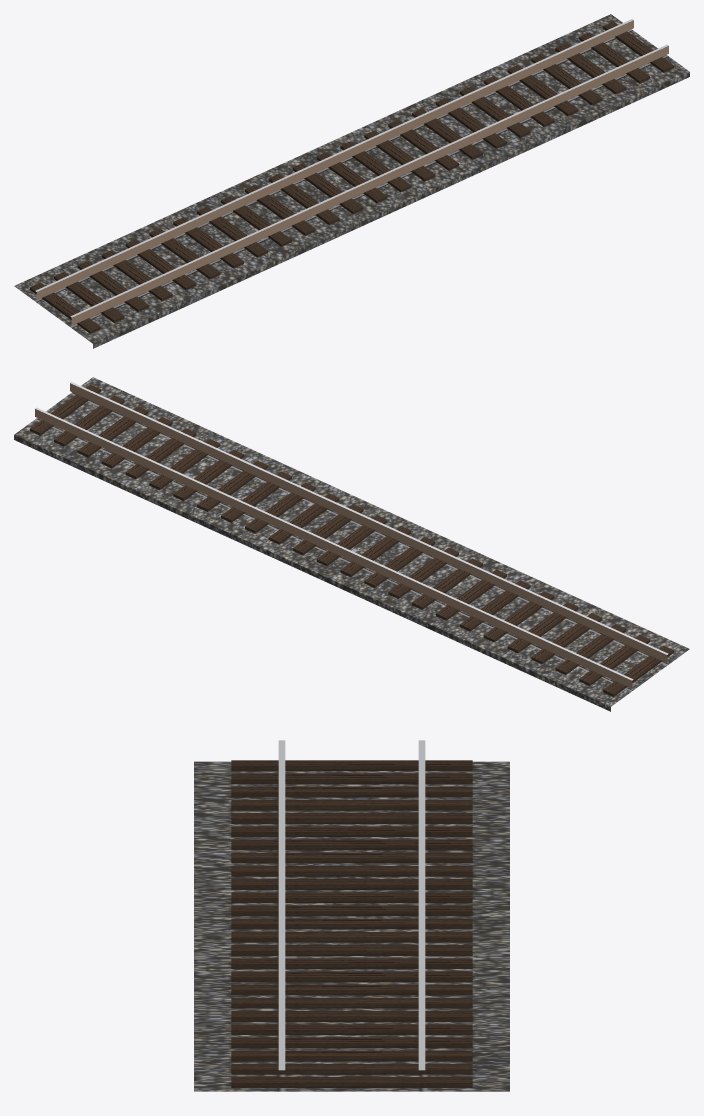
The model's file is kolej_svah_drevo.glb.
3 renders of one model, top to bottom at view 1: azimuth 30°, elevation 25°; view 2: azimuth 150°, elevation 25°; view 3: azimuth 270°, elevation 25°, orthographic. The views are drawn at different scales.
Visible parts, largest first — view 1: kolej_svah_drevo; view 2: kolej_svah_drevo; view 3: kolej_svah_drevo.
Part boxes in pixels (box(x1,y1,x2,y2)): kolej_svah_drevo: box(14, 14, 689, 348); kolej_svah_drevo: box(14, 377, 689, 711); kolej_svah_drevo: box(194, 740, 509, 1091).
Size of the model in its own units: 14.84 by 3.37 by 3.4.
Materials: 4 (2 with a texture image).
